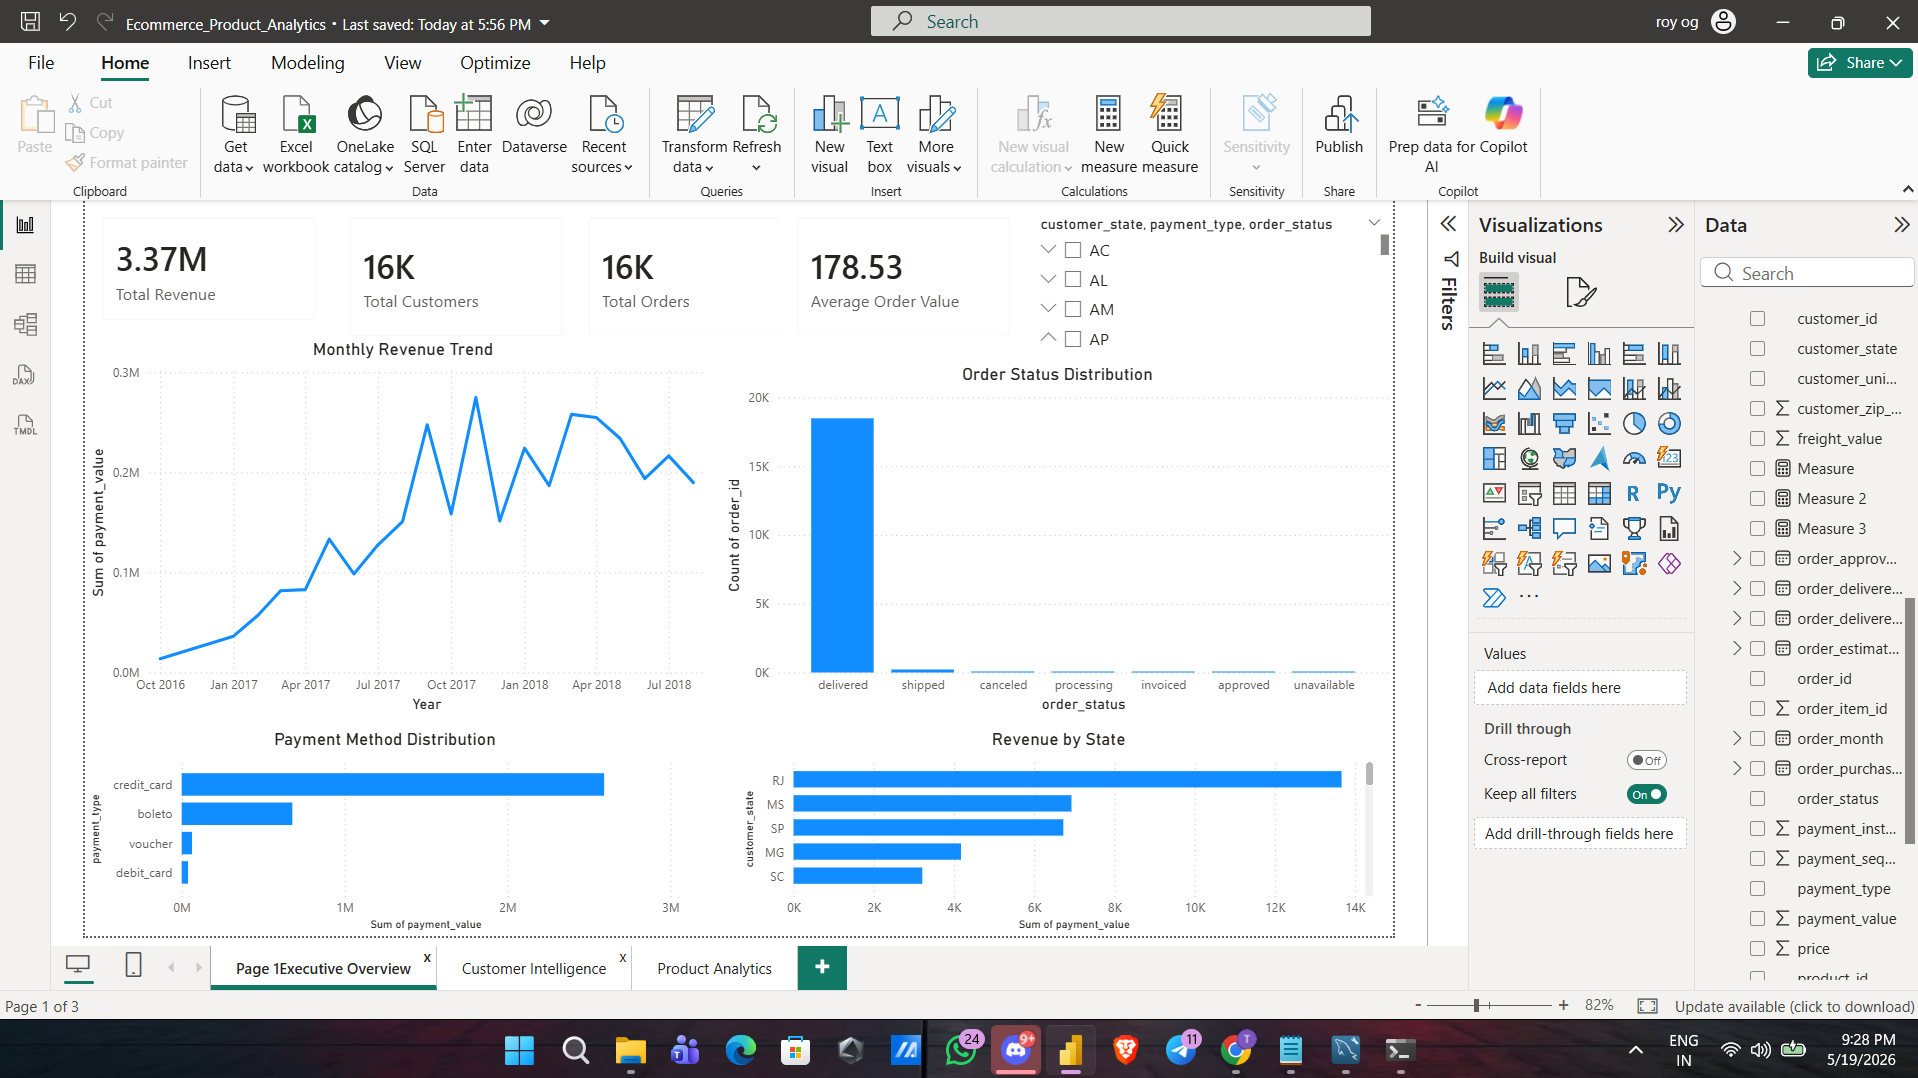

Layout of this report page (visuals, bound fields, positions):
{"tool":"powerbi","page":{"name":"Page 1Executive Overview","canvas":[1280,720],"ordinal":0},"visuals":[{"type":"cardVisual","fields":{"Data":["full_data.Total Revenue"]},"box":[0,0,242.1,135.7],"z":4},{"type":"cardVisual","fields":{"Data":["full_data.Total Customers"]},"box":[242.1,0,242.1,150.4],"z":5},{"type":"cardVisual","fields":{"Data":["full_data.Total Orders"]},"box":[475.7,0,222.6,149.2],"z":6},{"type":"cardVisual","fields":{"Data":["cohort_retention.Average Order Value"]},"box":[679.9,0,242.1,149.2],"z":7},{"type":"lineChart","title":"Monthly Revenue Trend","fields":{"Y":["Sum(full_data.payment_value)"],"Category":["full_data.order_month.Variation.Date Hierarchy.Year","full_data.order_month.Variation.Date Hierarchy.Quarter","full_data.order_month.Variation.Date Hierarchy.Month","full_data.order_month.Variation.Date Hierarchy.Day"]},"box":[0,135.7,622.4,370.5],"z":8},{"type":"clusteredBarChart","title":"Payment Method Distribution","fields":{"Category":["full_data.payment_type"],"Y":["Sum(full_data.payment_value)"]},"box":[0,517.3,587,203],"z":9},{"type":"clusteredColumnChart","title":"Order Status Distribution","fields":{"Category":["full_data.order_status"],"Y":["CountNonNull(full_data.order_id)"]},"box":[622.4,160.2,657.9,346.1],"z":10},{"type":"barChart","title":"Revenue by State","fields":{"Category":["full_data.customer_state"],"Y":["Max(full_data.payment_value)"]},"box":[639.5,517.3,626.1,203],"z":11},{"type":"slicer","fields":{"Values":["full_data.customer_state","full_data.payment_type","full_data.order_status"]},"box":[922,9.8,358.3,150.4],"z":12}]}

Visuals, with their boxes on the page's 1280x720 design canvas (x1, y1, x2, y2). These are canvas units, not pixel positions in the 1918x1078 screenshot, which may show the page scaled, cropped or inside an application window:
cardVisual - full_data.Total Revenue: BBox(0, 0, 242, 136)
cardVisual - full_data.Total Customers: BBox(242, 0, 484, 150)
cardVisual - full_data.Total Orders: BBox(476, 0, 698, 149)
cardVisual - cohort_retention.Average Order Value: BBox(680, 0, 922, 149)
"Monthly Revenue Trend" lineChart: BBox(0, 136, 622, 506)
"Payment Method Distribution" clusteredBarChart: BBox(0, 517, 587, 720)
"Order Status Distribution" clusteredColumnChart: BBox(622, 160, 1280, 506)
"Revenue by State" barChart: BBox(640, 517, 1266, 720)
slicer - full_data.customer_state x full_data.payment_type: BBox(922, 10, 1280, 160)
